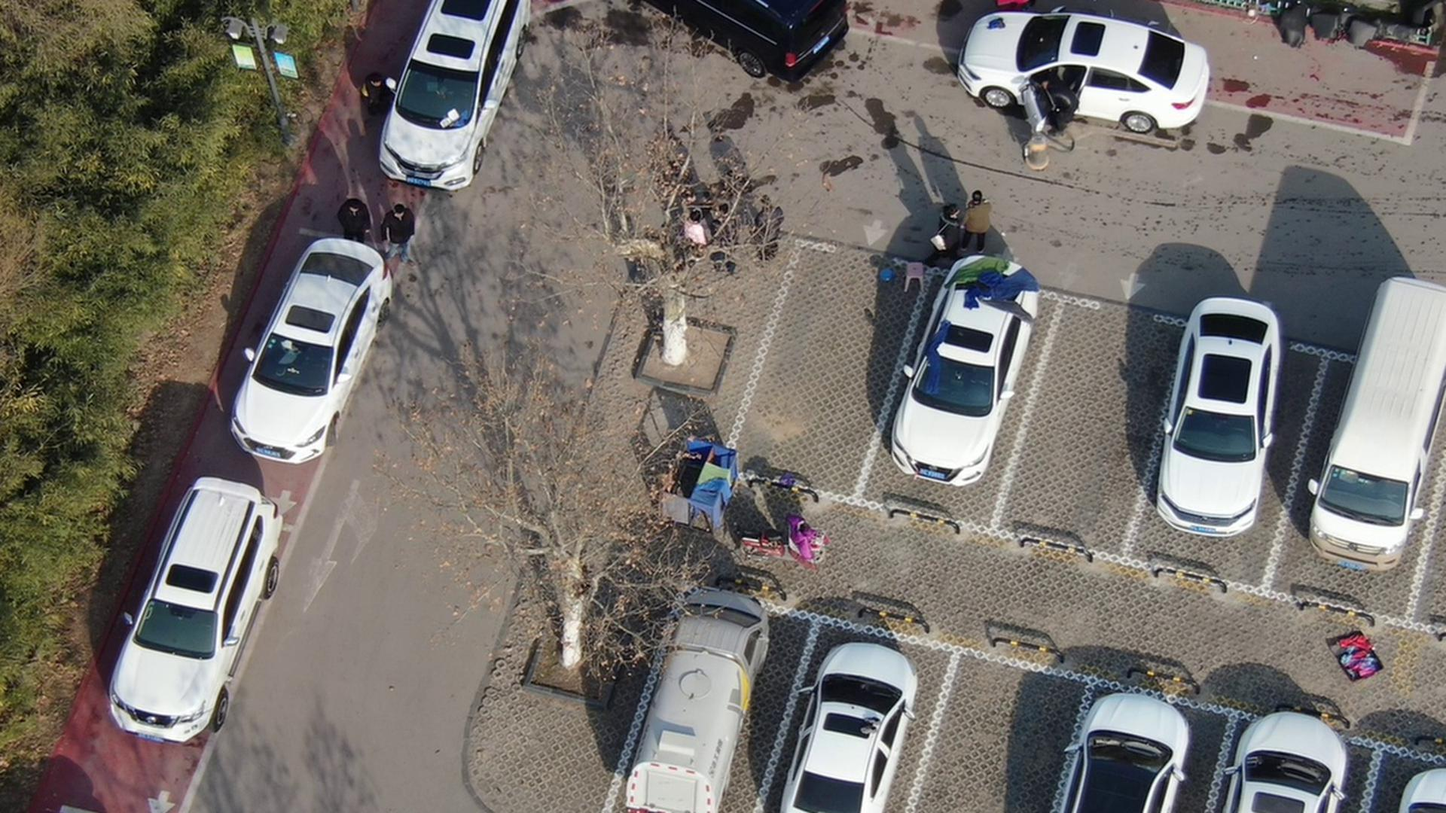human: (927, 197, 973, 273), (753, 188, 796, 268), (1045, 69, 1088, 142), (709, 199, 750, 274), (967, 179, 1004, 254), (343, 190, 381, 250), (388, 204, 425, 263), (365, 70, 406, 120)
